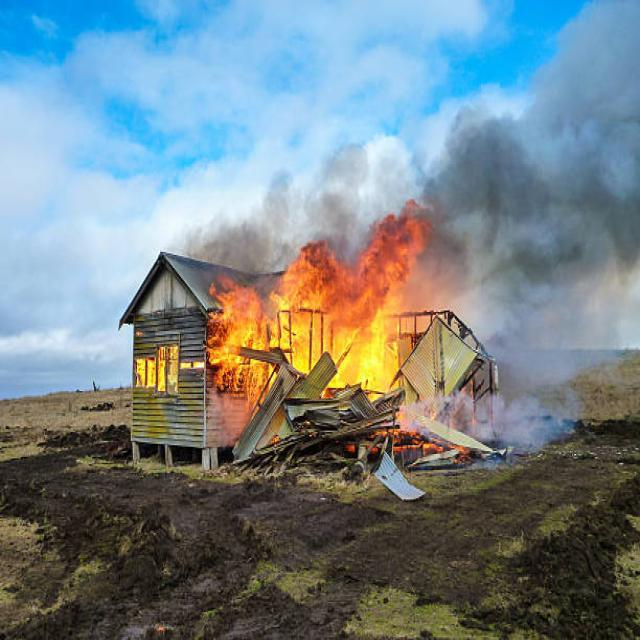Fire: (214, 208, 429, 406), (136, 344, 194, 385)
Smoke: (421, 16, 638, 341), (237, 176, 383, 266), (486, 331, 580, 444)
